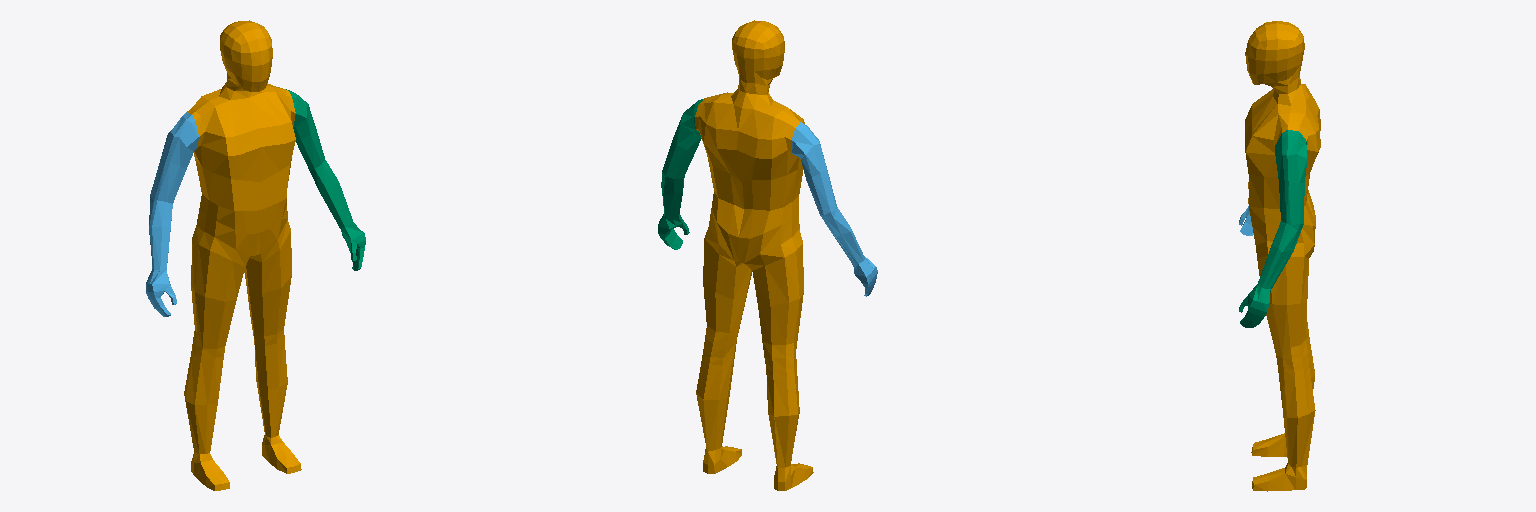
robot.urdf — person:
<?xml version="1.0" ?>
<robot name="person">
  <!-- LINKS -->
  <link name="person">
    <visual>
      <origin rpy="0 0 0" xyz="0 0 0"/>
      <geometry>
        <mesh filename="person.stl"/>
      </geometry>
    </visual>
  </link>
  <link name="left_arm">
    <visual>
      <origin rpy="0 0 0" xyz="0.202 -0.031 -1.39"/>
      <geometry>
        <mesh filename="left_arm.stl"/>
      </geometry>
    </visual>
  </link>
  <link name="right_arm">
    <visual>
      <origin rpy="0 0 0" xyz="-0.202 -0.031 -1.39"/>
      <geometry>
        <mesh filename="right_arm.stl"/>
      </geometry>
    </visual>
  </link>
  <!-- END LINKS -->
  <!-- JOINTS -->
  <joint name="left_shoulder" type="revolute">
    <origin rpy="0 0 0" xyz="-0.202 0.031 1.39"/>
    <parent link="person"/>
    <child link="left_arm"/>
    <axis xyz="-1 0 0"/>
  </joint>
  <joint name="right_shoulder" type="revolute">
    <origin rpy="0 0 0" xyz="0.202 0.031 1.39"/>
    <parent link="person"/>
    <child link="right_arm"/>
    <axis xyz="-1 0 0"/>
  </joint>
  <!-- END JOINTS -->
</robot>

--- Render facts (derived) ---
3 views of the same robot in one strip: view 1: azimuth 30°, elevation 25°; view 2: azimuth 150°, elevation 25°; view 3: azimuth 270°, elevation 25° (orthographic).
Model person with 3 links and 2 joints (2 revolute), rooted at person, posed every joint at zero.
Visible links, largest first — view 1: person, left_arm, right_arm; view 2: person, left_arm, right_arm; view 3: person, right_arm.
Boxes of the visible links, x1,y1,x2,y2 form: person: (184, 20, 301, 490); left_arm: (146, 112, 198, 316); right_arm: (286, 89, 365, 270); person: (695, 20, 813, 490); left_arm: (792, 122, 877, 296); right_arm: (658, 99, 702, 249); person: (1245, 21, 1320, 491); right_arm: (1239, 130, 1306, 327).
Bounding box of the posed robot: 0.888 × 0.301 × 1.79 m (x, y, z).
Meshes: 3 distinct files referenced, 3 mesh visuals loaded (3 binary STL).